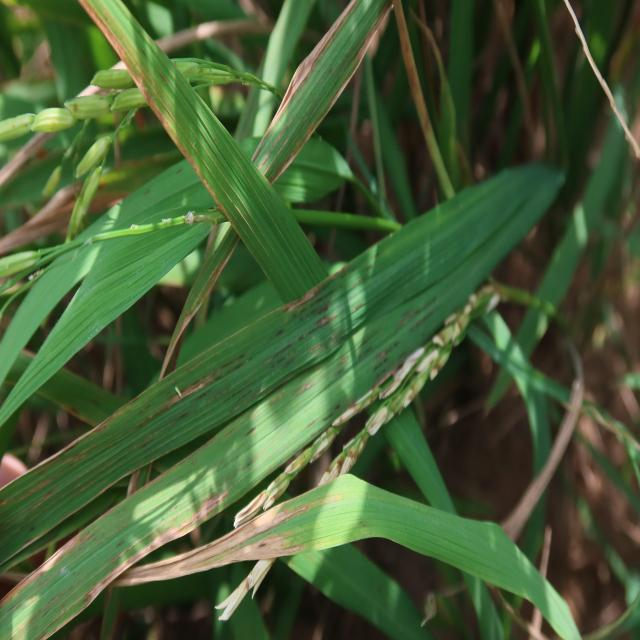Dom soc vi khuan: (115, 230, 434, 474)
